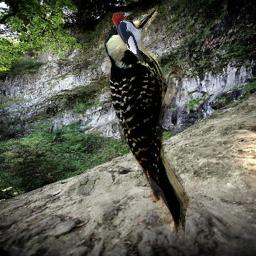Woodpecker: (93, 2, 208, 253), (111, 10, 152, 64)
